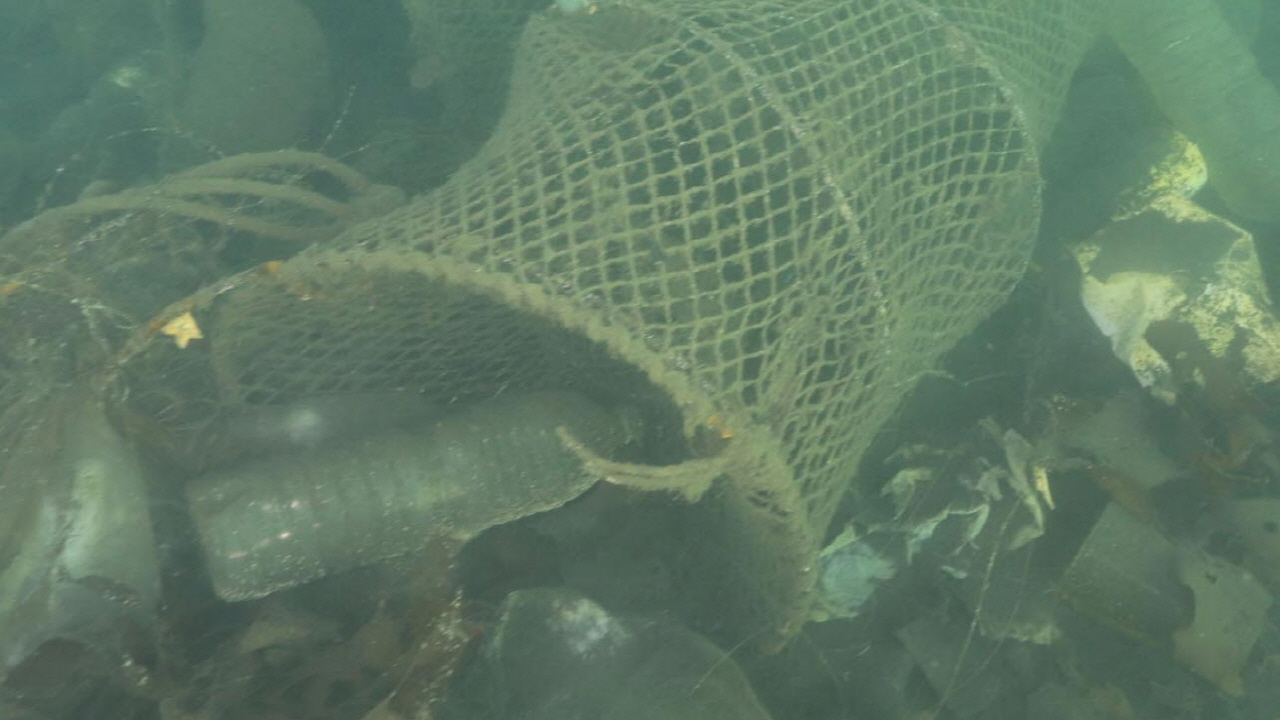bundle of ropes: (0, 144, 405, 235)
spring fish trap: (89, 0, 1101, 652)
